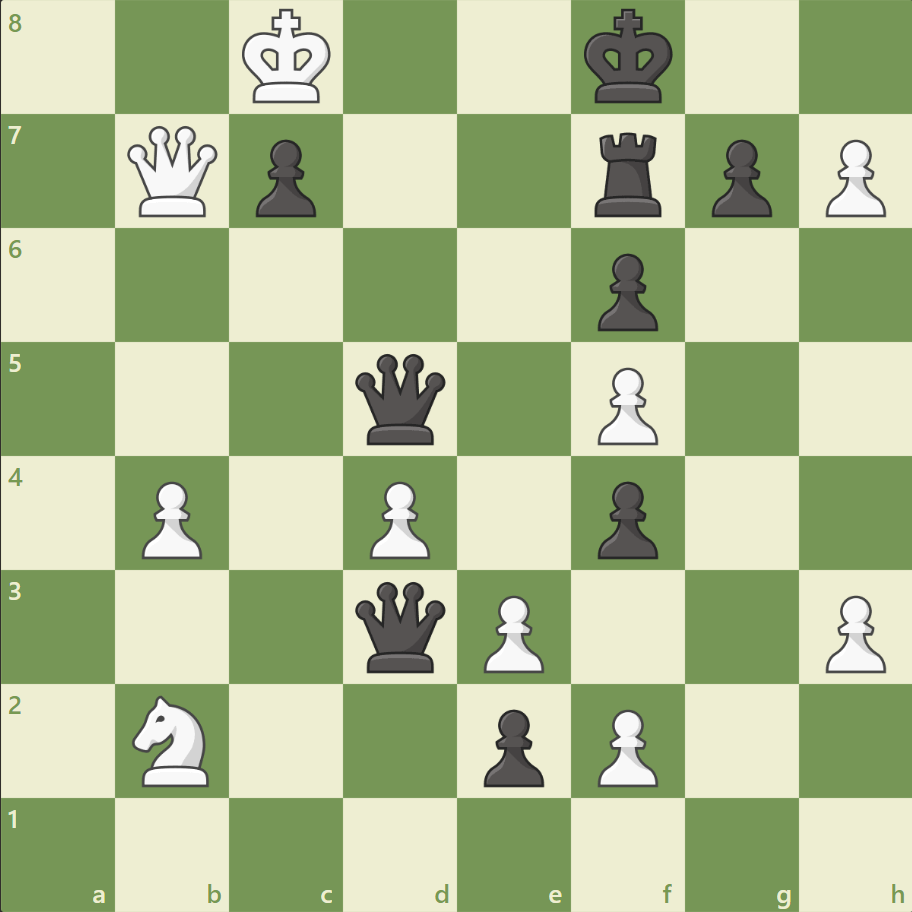K: (238, 4, 338, 112)
N: (124, 688, 222, 791)
P: (133, 473, 208, 564), (474, 586, 549, 677), (815, 132, 889, 223), (588, 359, 662, 450), (361, 473, 435, 564), (815, 586, 889, 677), (588, 700, 662, 791)
Q: (124, 122, 223, 222)
k: (579, 4, 679, 112)
p: (247, 132, 322, 223), (701, 132, 776, 223), (474, 700, 549, 791), (588, 246, 662, 337), (588, 473, 662, 564)
q: (351, 349, 450, 449), (351, 576, 450, 676)
r: (587, 125, 670, 222)
